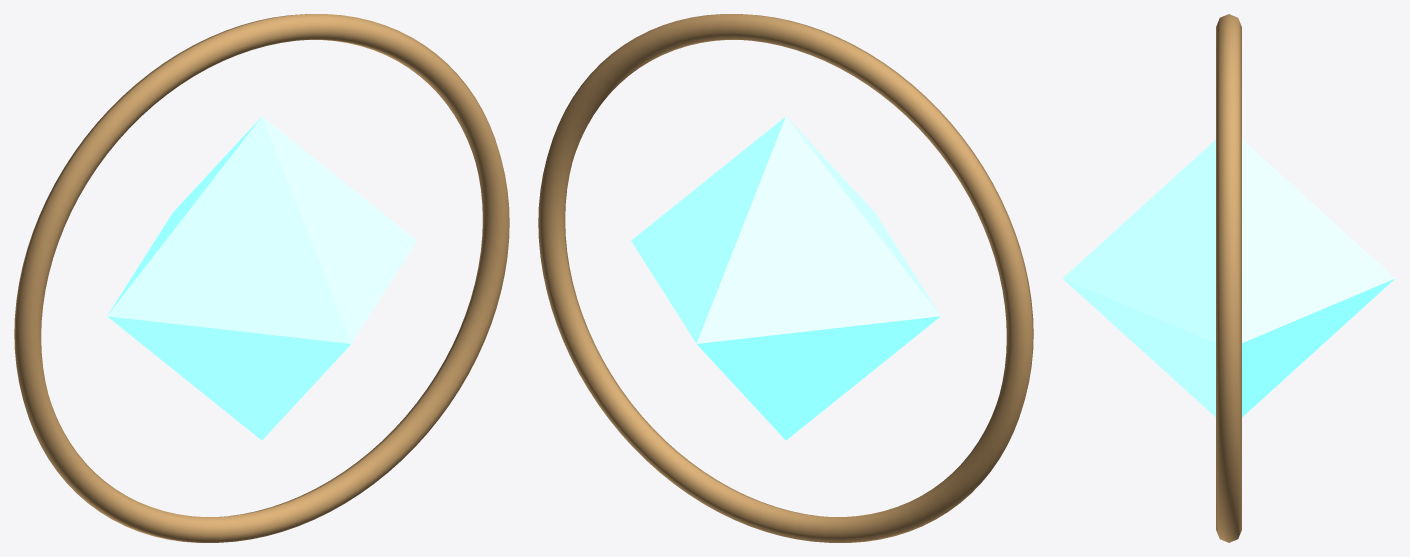
File: prism.glb
3 renders of one model, left to right at view 1: azimuth 30°, elevation 25°; view 2: azimuth 150°, elevation 25°; view 3: azimuth 270°, elevation 25°, orthographic. The views are drawn at different scales.
Visible parts, largest first — view 1: Energy prism, Prism orbit; view 2: Energy prism, Prism orbit; view 3: Energy prism, Prism orbit.
Boxes of the visible parts, left/top/right/bottom form: Energy prism: left=107, top=116, right=416, bottom=440; Prism orbit: left=14, top=14, right=509, bottom=542; Energy prism: left=631, top=116, right=940, bottom=440; Prism orbit: left=538, top=14, right=1033, bottom=542; Energy prism: left=1062, top=139, right=1395, bottom=417; Prism orbit: left=1216, top=14, right=1241, bottom=542.
Size of the model in its own units: 1.43 by 1.43 by 0.9.
